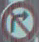Don't turn right: (2, 3, 38, 40)
